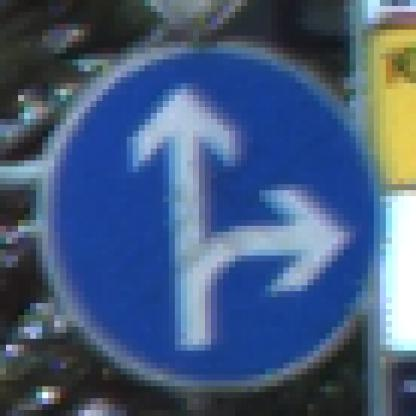Straight or Right: (37, 37, 381, 381)
